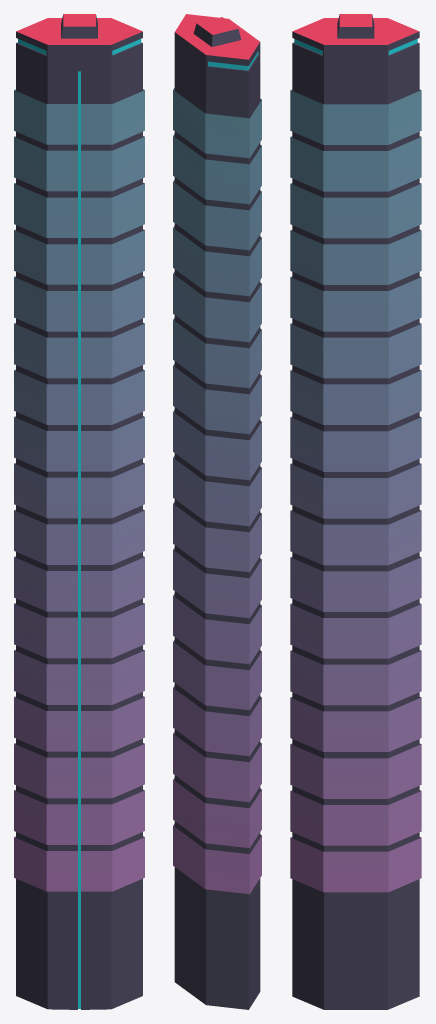
The model's file is CbpBuild D.fbx.
3 views of the same model, side by side, from view 1: azimuth 90°, elevation 25°; view 2: azimuth 210°, elevation 25°; view 3: azimuth 270°, elevation 25° (orthographic).
Visible parts, largest first — view 1: CbpBuild D; view 2: CbpBuild D; view 3: CbpBuild D.
Boxes of the visible parts, box(x1,y1,x2,y2) form: CbpBuild D: box(14, 14, 144, 1009); CbpBuild D: box(173, 14, 261, 1009); CbpBuild D: box(290, 14, 421, 1009).
Bounding box in the file's own units: 6.73 × 109 × 13.29.
